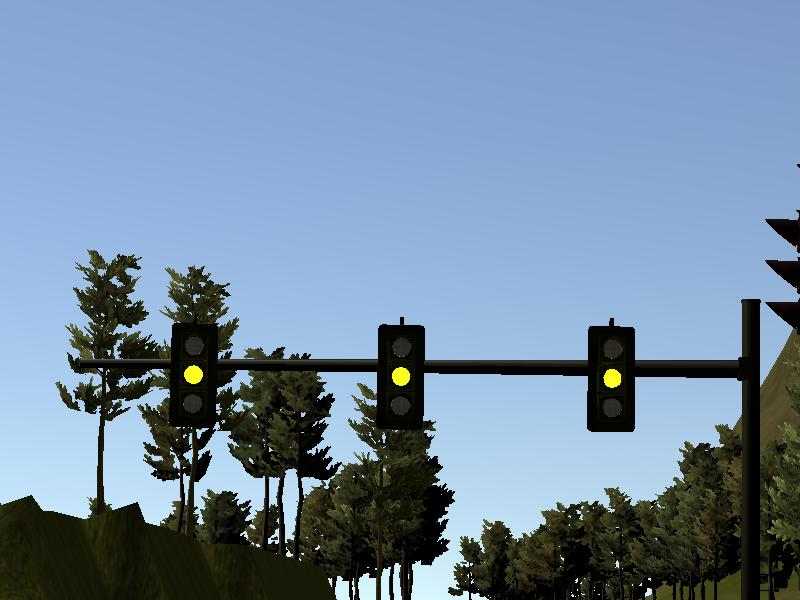not_red: (586, 328, 633, 430), (378, 322, 422, 427), (174, 325, 214, 427)
